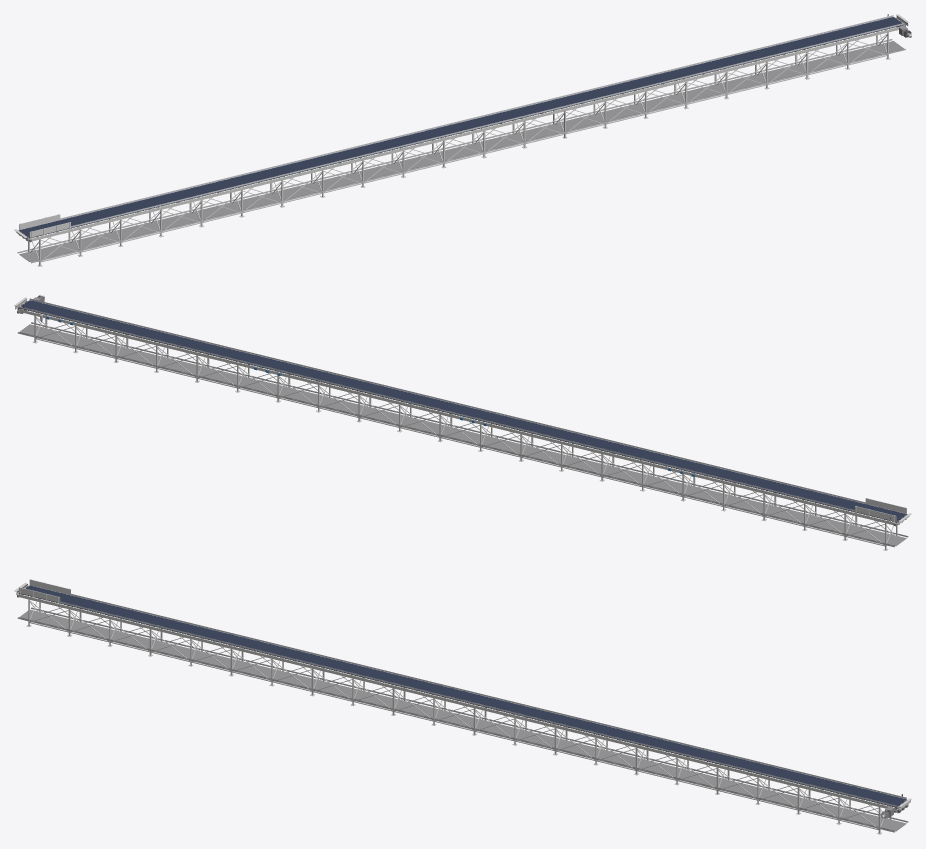
Rendered from arb_s7000.glb.
3 renders of one model, top to bottom at view 1: azimuth 30°, elevation 25°; view 2: azimuth 150°, elevation 25°; view 3: azimuth 330°, elevation 25°, orthographic.
Parts seen in each view (by area): view 1: Frame_BottomCover, Belt_Surface, Legs_All, Frame_RailRight, Frame_CableTrayRight, SideGuardLeft, SideGuardRight, Frame_CableTrayLeft; view 2: Frame_BottomCover, Belt_Surface, Legs_All, Frame_RailLeft, Frame_CableTrayLeft, SideGuardRight, SideGuardLeft, Frame_CableTrayRight; view 3: Frame_BottomCover, Belt_Surface, Legs_All, Frame_RailRight, Frame_CableTrayRight, SideGuardRight, SideGuardLeft, Frame_CableTrayLeft.
Boxes of the visible parts, x1,y1,x2,y2 form: Frame_BottomCover: (19, 41, 903, 261); Belt_Surface: (19, 17, 903, 238); Legs_All: (28, 31, 890, 266); Frame_RailRight: (30, 25, 904, 241); Frame_CableTrayRight: (31, 49, 905, 263); SideGuardLeft: (60, 15, 893, 219); SideGuardRight: (71, 23, 904, 227); Frame_CableTrayLeft: (17, 39, 892, 253); Frame_BottomCover: (19, 324, 906, 545); Belt_Surface: (19, 300, 906, 521); Legs_All: (33, 314, 897, 550); Frame_RailLeft: (18, 309, 895, 525); Frame_CableTrayLeft: (17, 332, 894, 547); SideGuardRight: (29, 298, 865, 503); SideGuardLeft: (19, 306, 854, 511); Frame_CableTrayRight: (31, 322, 908, 537); Frame_BottomCover: (19, 609, 906, 831); Belt_Surface: (19, 585, 906, 807); Legs_All: (26, 598, 891, 834); Frame_RailRight: (19, 594, 895, 809); Frame_CableTrayRight: (17, 617, 894, 832); SideGuardRight: (60, 601, 896, 806); SideGuardLeft: (71, 594, 906, 798); Frame_CableTrayLeft: (31, 607, 908, 822).
Bounding box in the file's own units: 52.55 × 2.05 × 2.31.
